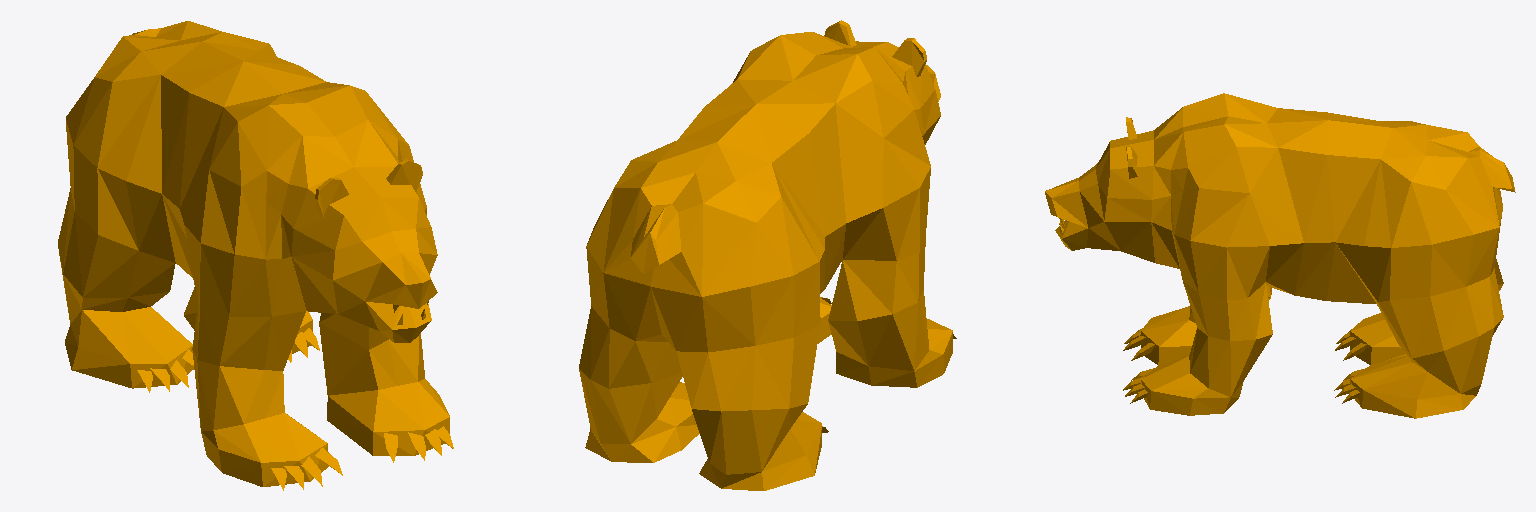
URDF robot description (warbear):
<robot name="warbear">
  <link name="warbear">
    <inertial>
      <origin xyz="0 0 0.0145"/>
      <mass value="0.1" />
      <inertia  ixx="0.0001" ixy="0.0"  ixz="0.0"  iyy="0.0001"  iyz="0.0"  izz="0.0001" />
    </inertial>
    <visual>
      <origin xyz="0 0 0.0145"/>
      <geometry>        
     <mesh filename="warbear.dae" scale="1 1 1"/>
    </geometry>
    </visual>
    <collision>
      <origin xyz="0 0 0.0145"/>
      <geometry>
        <box size="0.029 0.029 0.029"/>
      </geometry>
    </collision>
  </link>
  <gazebo reference="warbear">
    <material>Gazebo/Blue</material>
  </gazebo>
</robot>

--- What the picture shows (computed from the rendered views, not written in the file) ---
The picture shows the robot from 3 angles, left to right: view 1: azimuth 30°, elevation 25°; view 2: azimuth 150°, elevation 25°; view 3: azimuth 270°, elevation 25°; orthographic projection.
Robot: warbear — 1 links, 0 joints (none); root link warbear; default pose: all joints at 0.
Visible links, largest first — view 1: warbear; view 2: warbear; view 3: warbear.
Link boxes in pixels (x1,y1,x2,y2): warbear: [58, 21, 453, 490]; warbear: [579, 20, 956, 490]; warbear: [1045, 93, 1515, 418].
Bounding box of the posed robot: 0.1287 × 0.2843 × 0.1764 m (x, y, z).
Meshes: 1 distinct files referenced, 1 mesh visuals loaded (1 Collada DAE).